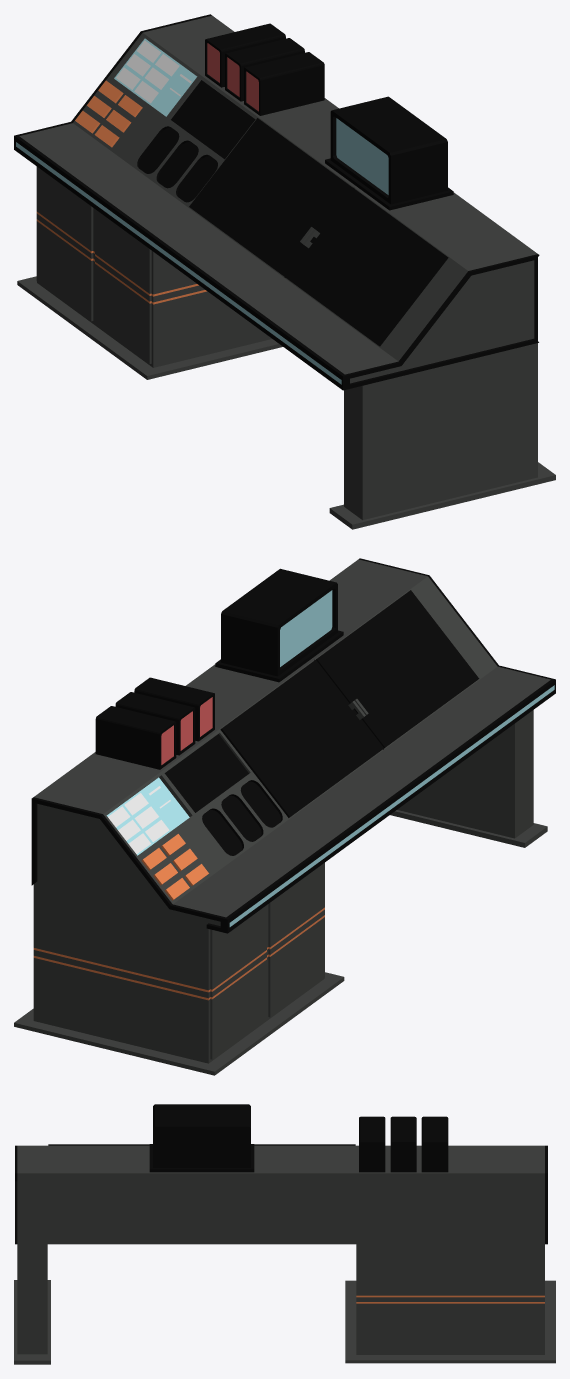
Rendered from station4.fbx.
The picture shows the model from 3 angles, top to bottom: view 1: azimuth 30°, elevation 25°; view 2: azimuth 150°, elevation 25°; view 3: azimuth 270°, elevation 25°; orthographic projection. The views are drawn at different scales.
Visible parts, largest first — view 1: station4; view 2: station4; view 3: station4.
Part boxes in pixels (box(x1,y1,x2,y2)): station4: box(14, 14, 555, 529); station4: box(14, 558, 555, 1075); station4: box(14, 1104, 555, 1364).
Bounding box in the file's own units: 2.55 × 6.95 × 3.24.
